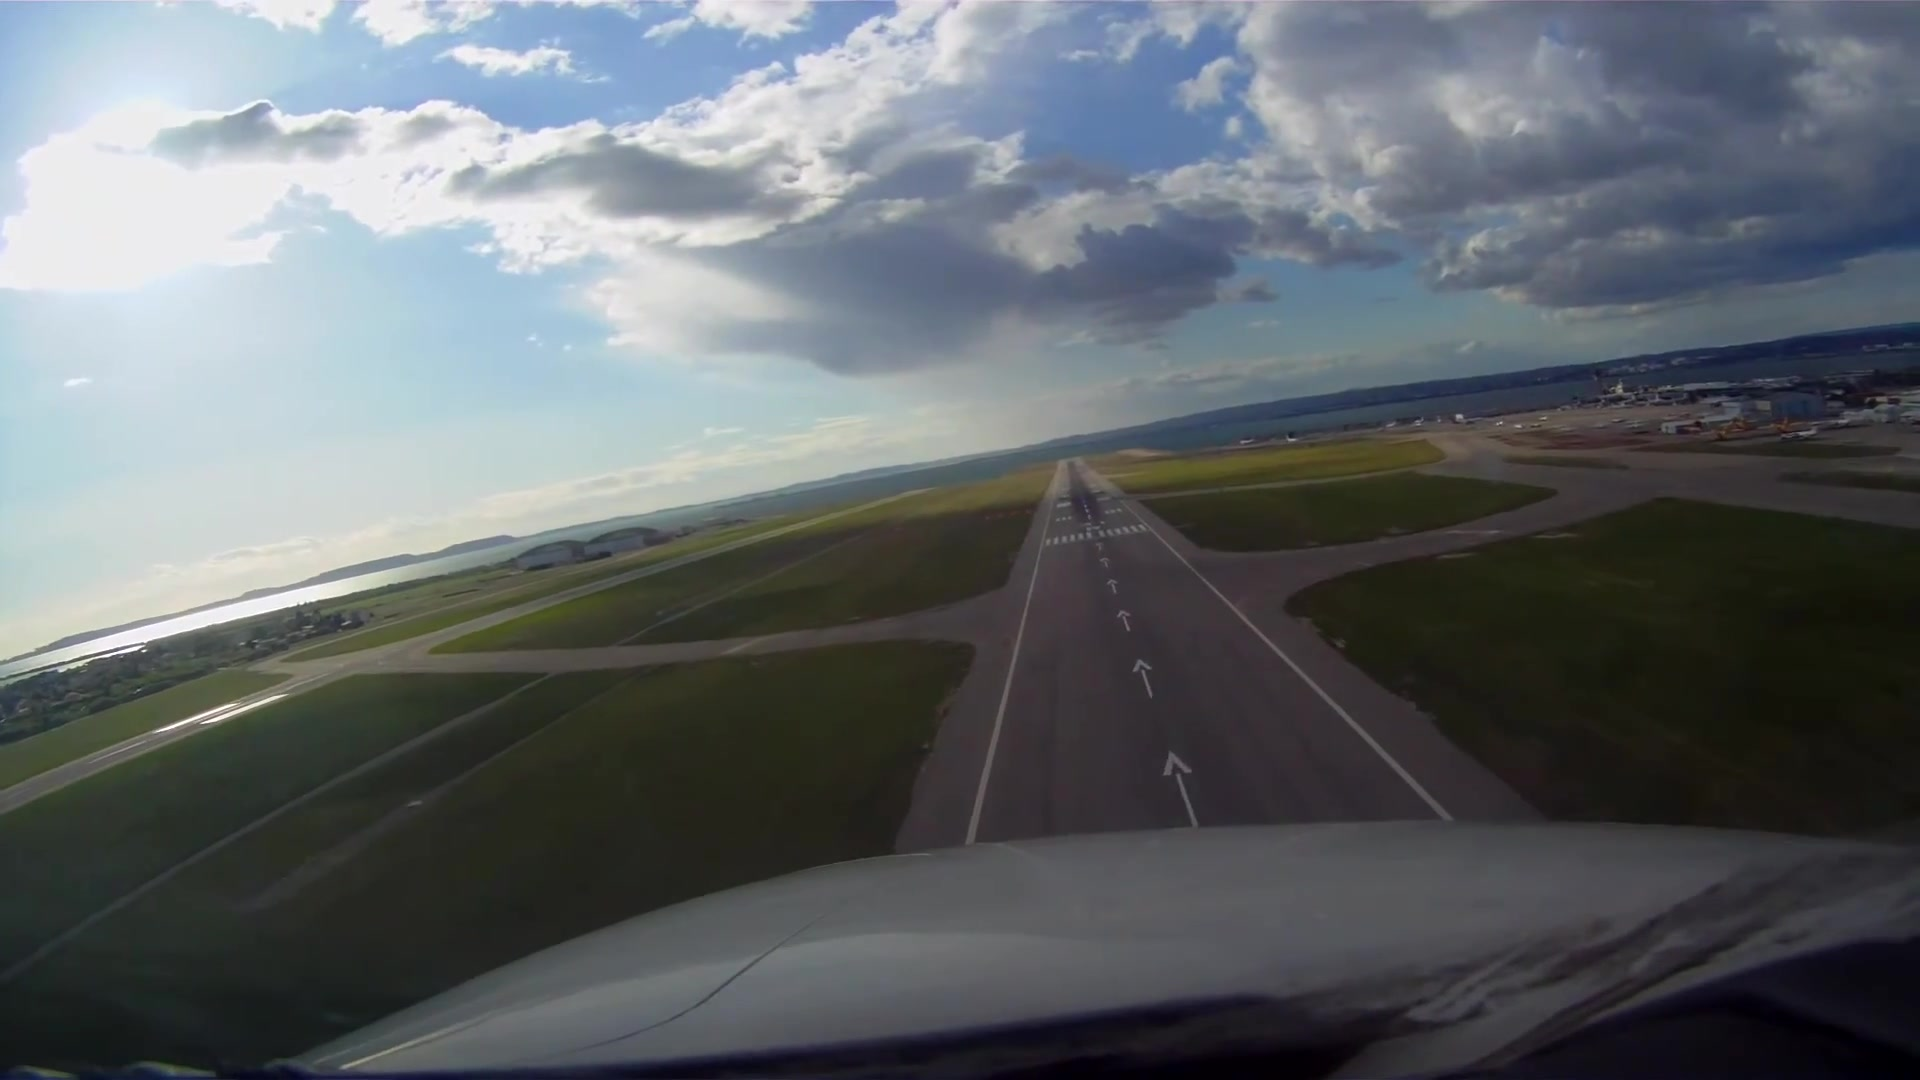entrance: (1040, 527, 1154, 545)
runway: (1039, 451, 1158, 551)
